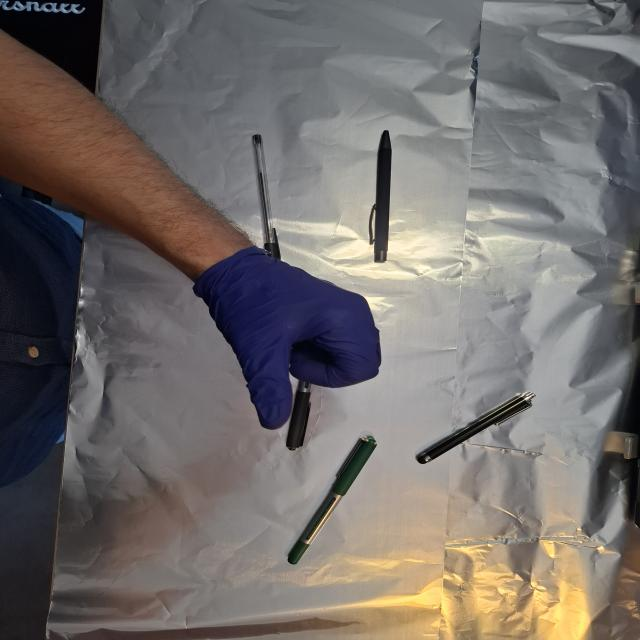glove_on: (191, 242, 384, 432)
